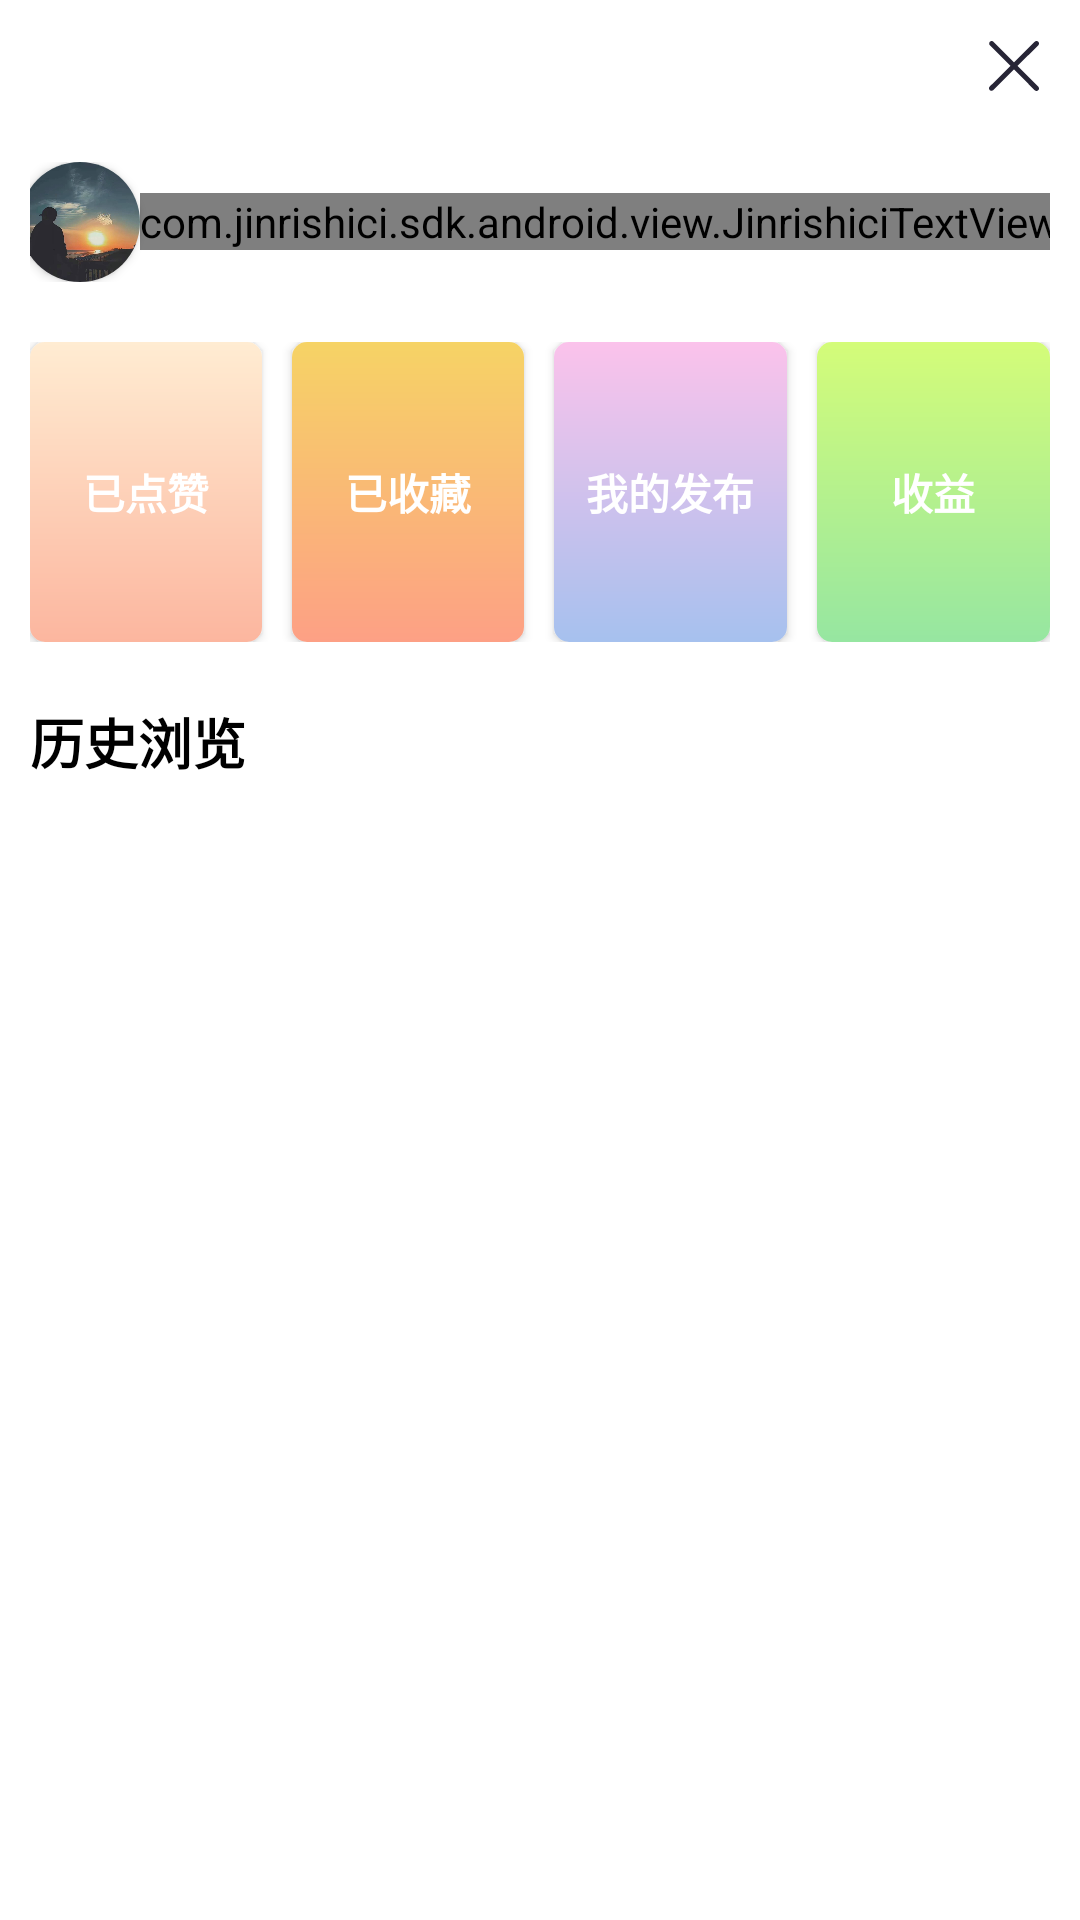

Icon bounding boxes for this 1080 × 1920 phone screenshot, format (x1, y1, x2, y2):
guanbi: (989, 41, 1039, 91)
toux: (30, 162, 140, 282)
